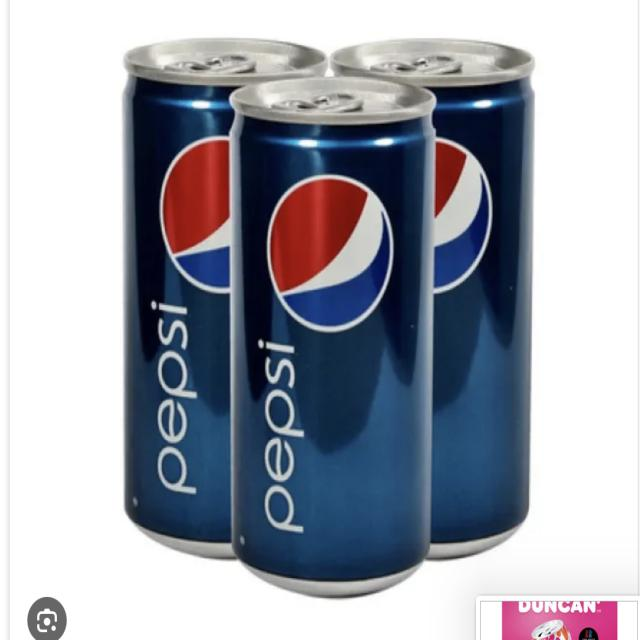recyclable: (105, 17, 334, 576), (329, 31, 568, 562), (226, 71, 460, 604)
